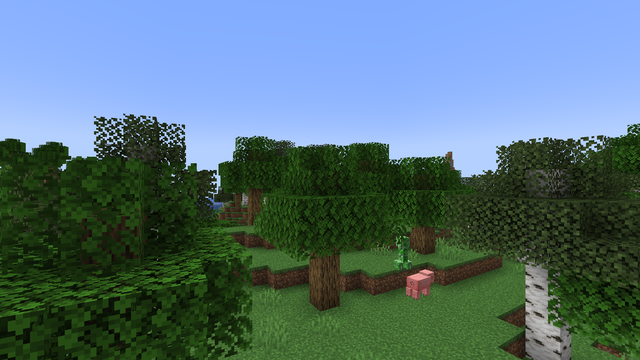cochons: (405, 271, 432, 299)
creepers: (394, 235, 410, 270)
